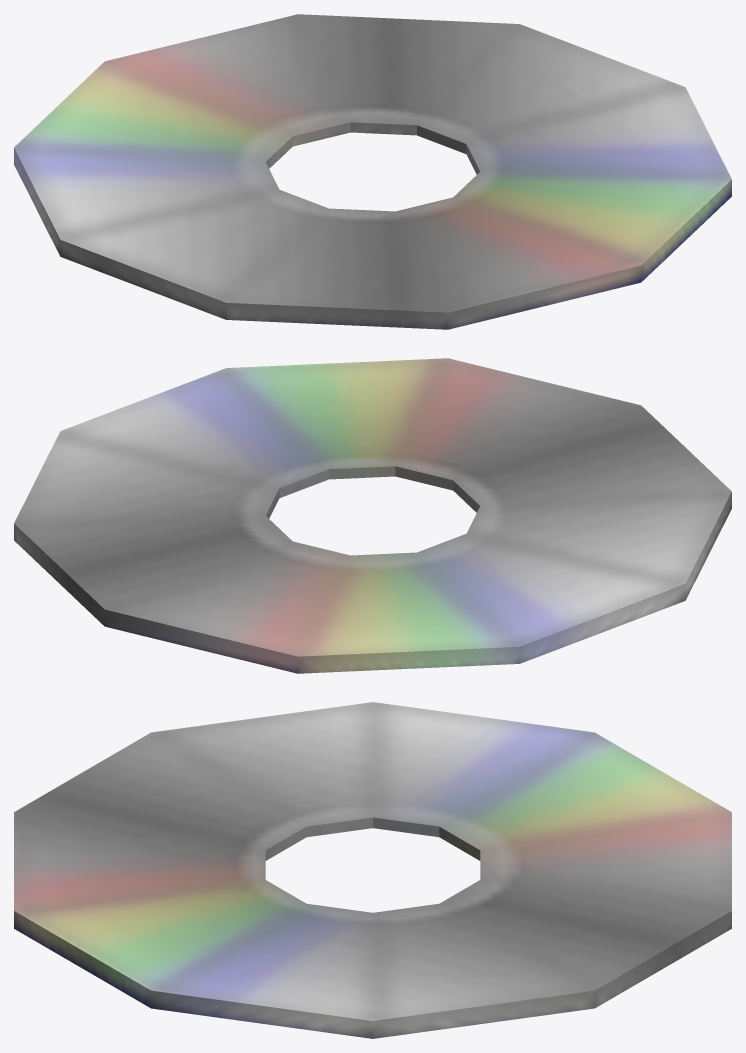
The model's file is NetCafe_CD.fbx.
3 renders of one model, top to bottom at view 1: azimuth 30°, elevation 25°; view 2: azimuth 150°, elevation 25°; view 3: azimuth 270°, elevation 25°, orthographic. The views are drawn at different scales.
Visible parts, largest first — view 1: Cylinder001; view 2: Cylinder001; view 3: Cylinder001.
Boxes of the visible parts, bbox=[...] form: Cylinder001: bbox=[14, 14, 731, 329]; Cylinder001: bbox=[14, 358, 731, 673]; Cylinder001: bbox=[14, 702, 731, 1038].
Bounding box in the file's own units: 0.1641 × 0.00429 × 0.1561.
Materials: 1 (1 with a texture image).
